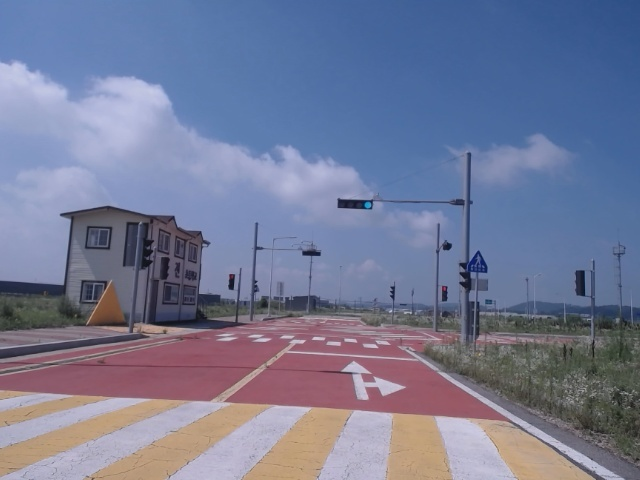straight_green_4: (336, 199, 374, 210)
